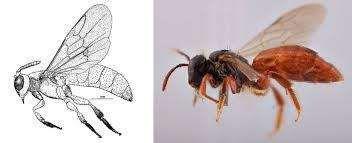Allodapula: (160, 0, 348, 140)
